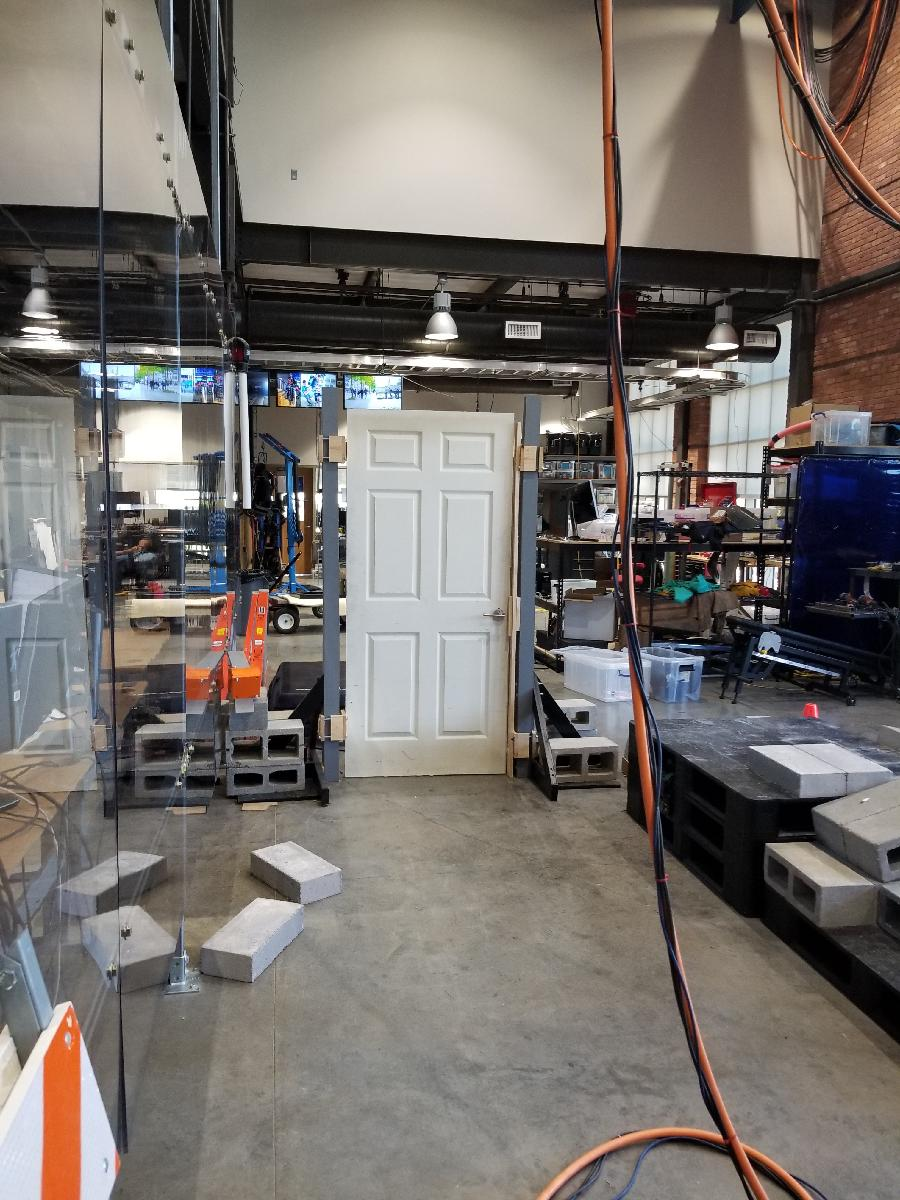door: (341, 403, 516, 781)
doorHandle: (481, 605, 507, 629)
